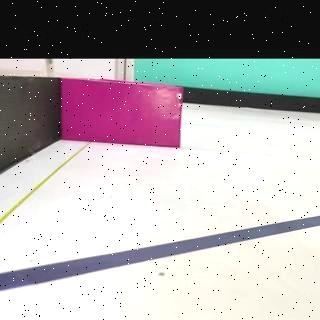xparking: (67, 86, 183, 146)
